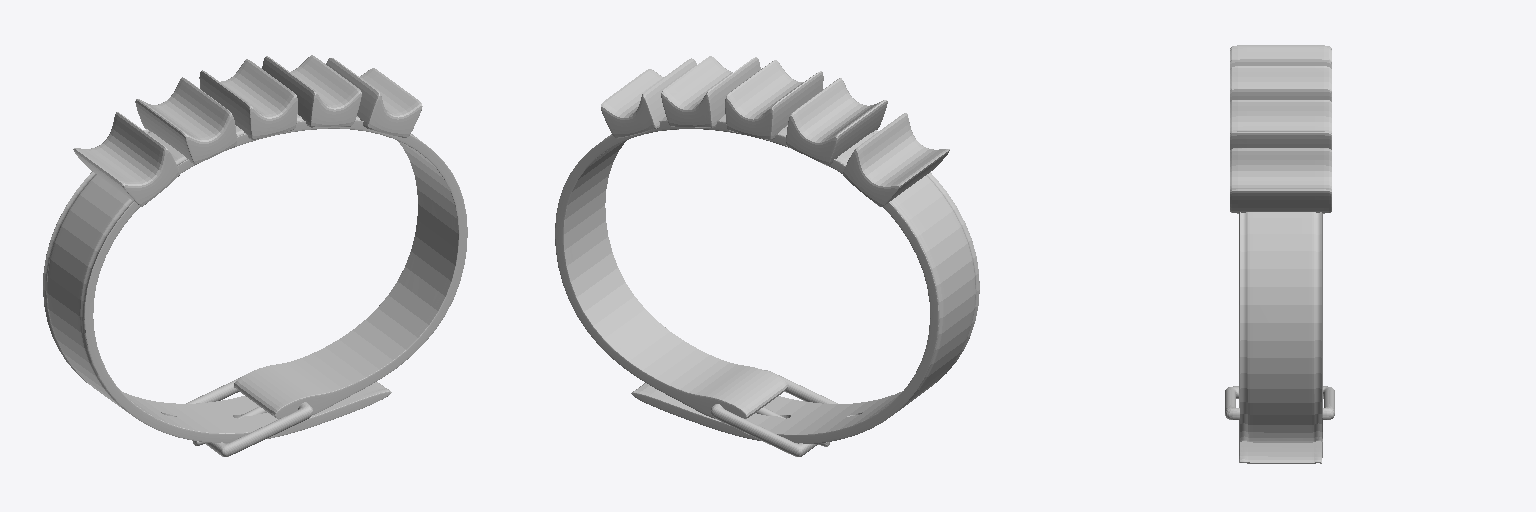
The model's file is treat_band.obj.
3 renders of one model, left to right at view 1: azimuth 30°, elevation 25°; view 2: azimuth 150°, elevation 25°; view 3: azimuth 270°, elevation 25°, orthographic.
Visible parts, largest first — view 1: Cube.002_Cube.003, Cube.004_Cube.005, Cube.003_Cube.004; view 2: Cube.002_Cube.003, Cube.004_Cube.005, Cube.003_Cube.004; view 3: Cube.002_Cube.003, Cube.004_Cube.005, Cube.003_Cube.004.
Part boxes in pixels (x1,y1,x2,y2): Cube.002_Cube.003: (43, 114, 467, 442); Cube.004_Cube.005: (73, 55, 422, 206); Cube.003_Cube.004: (186, 377, 312, 456); Cube.002_Cube.003: (555, 115, 979, 443); Cube.004_Cube.005: (601, 56, 949, 206); Cube.003_Cube.004: (710, 370, 837, 456); Cube.002_Cube.003: (1239, 212, 1322, 463); Cube.004_Cube.005: (1230, 45, 1331, 213); Cube.003_Cube.004: (1225, 386, 1334, 419).
Bounding box in the file's own units: 0.0787 × 0.0689 × 0.0196.